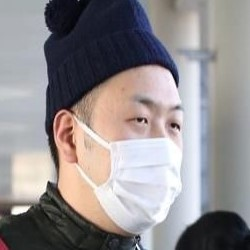mask: (71, 119, 185, 235)
